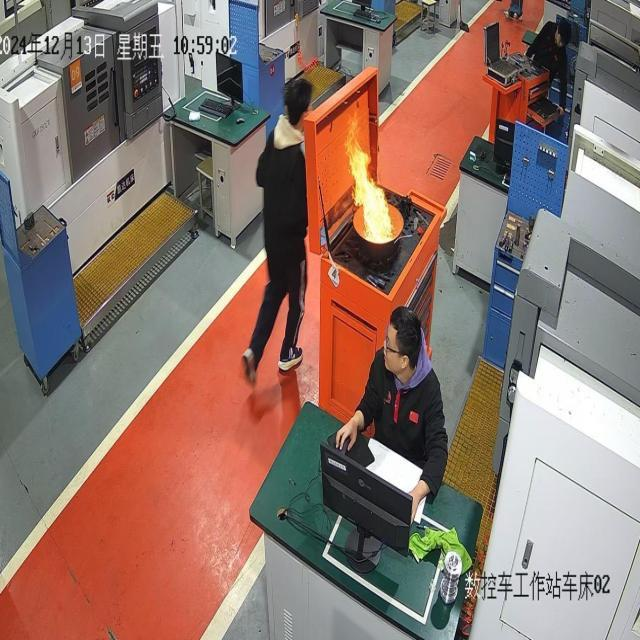smoke: (344, 114, 396, 243)
